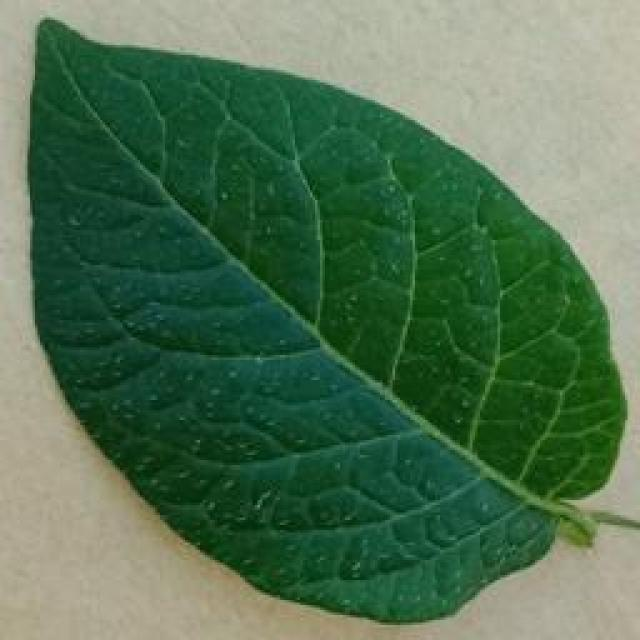Potato_Healthy: (25, 17, 622, 621)
